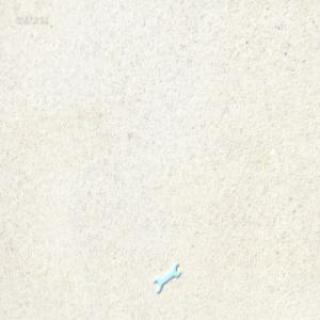Wrenchtrack_idkeyframe: (150, 260, 177, 290)
